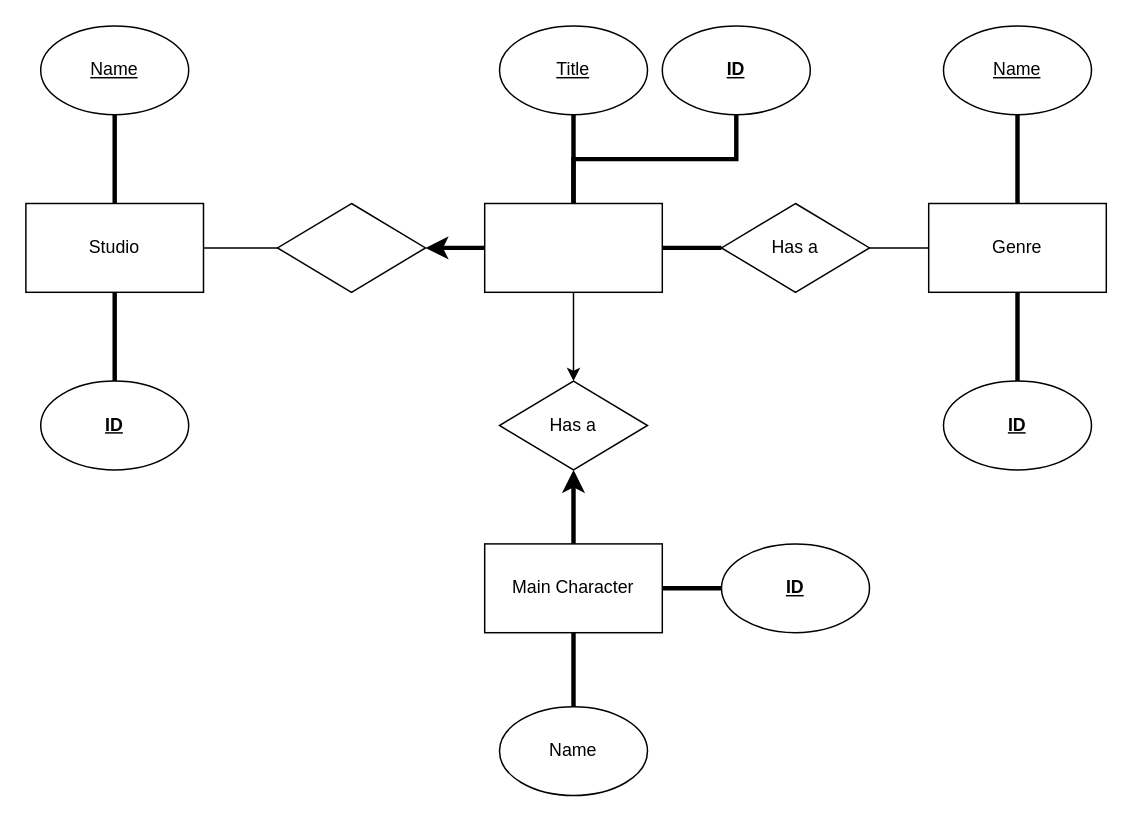
Some shapes in this 1132 by 821 pixel diagram are drawn without their labels. Each missing label, with the centre of its shape:
Anime: the point at 572,247
Creates a: the point at 351,247
